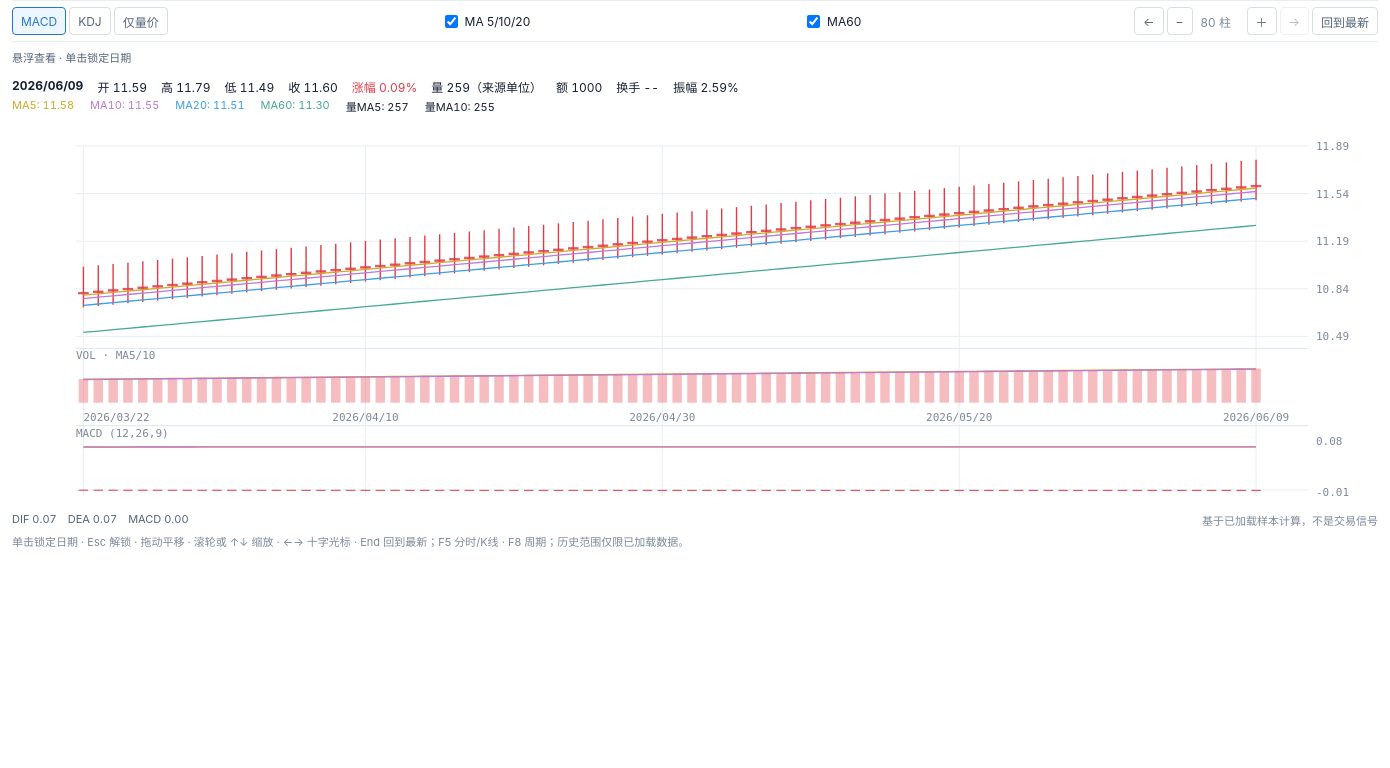
Scenario: professional chart navigation › links keyboard inspection to all panes and switches indicators
This screenshot has width=1390, height=768.
Press ArrowLeft in the element that starts with "MACD"
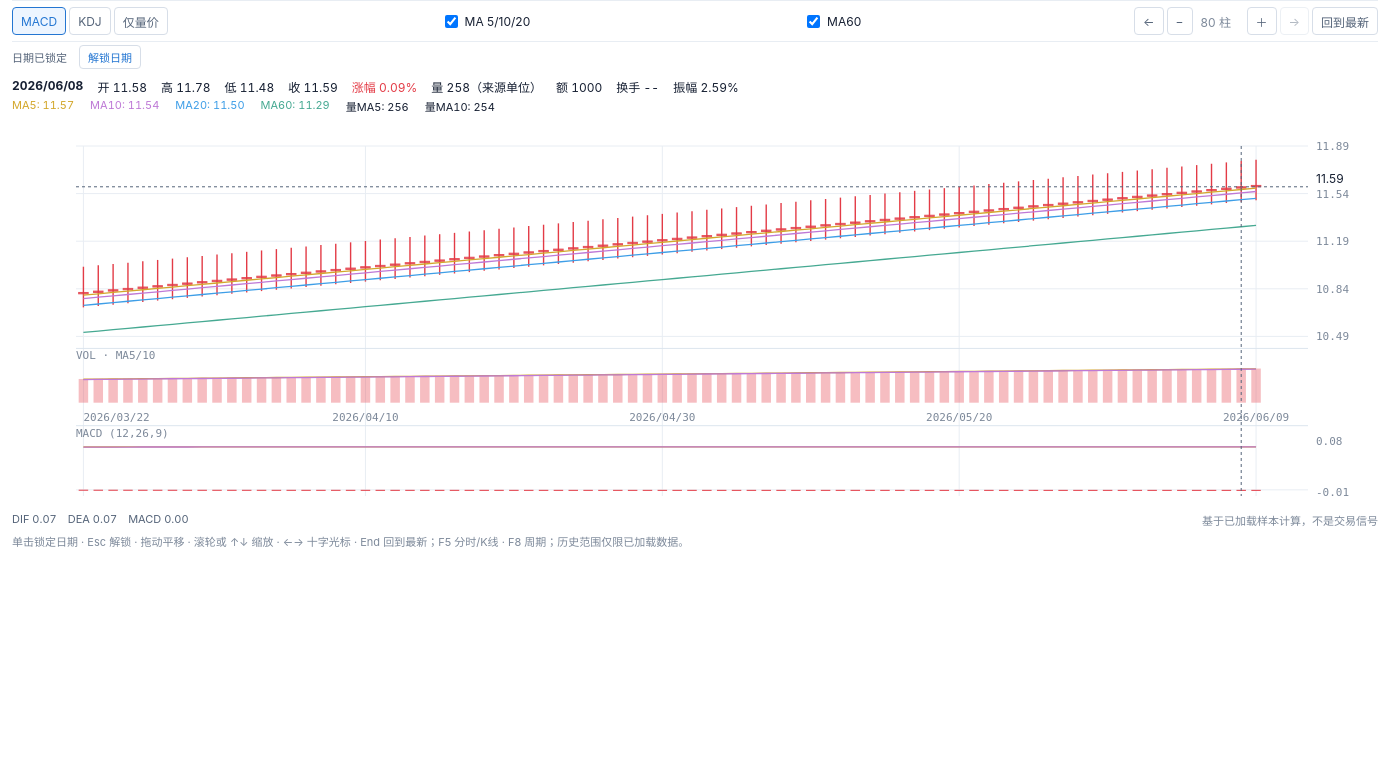
Press ArrowLeft in the element that starts with "MACD"
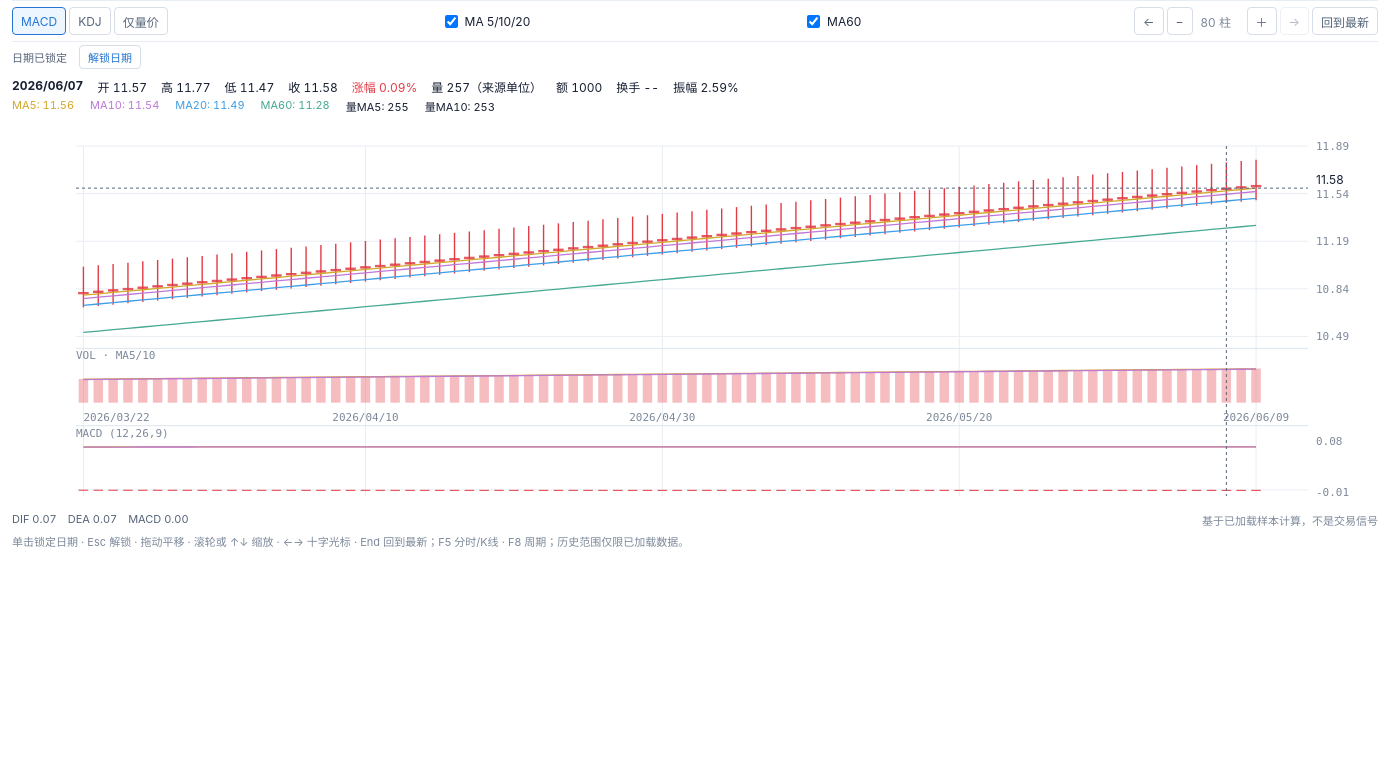
Press Escape in the element that starts with "MACD"
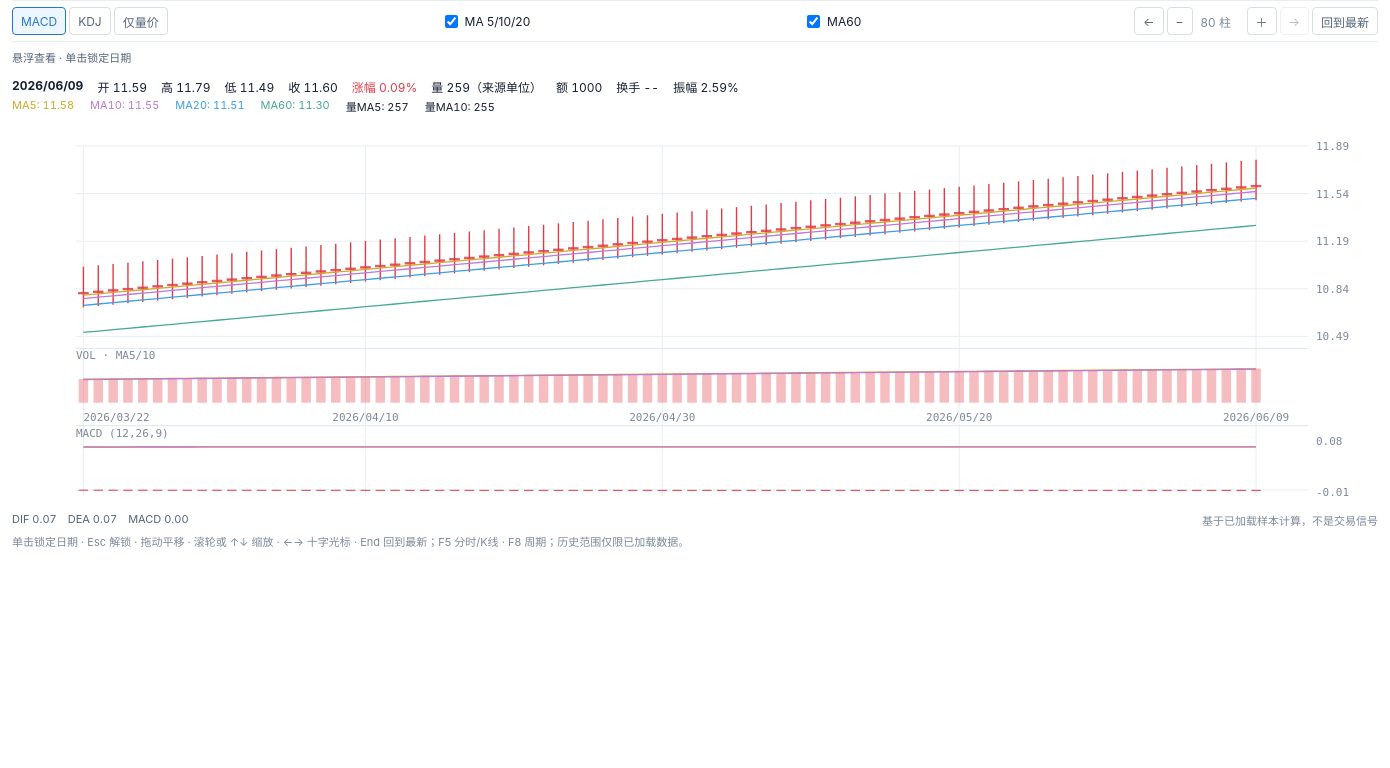
Click the button "KDJ" at (90, 21), box [69, 7, 111, 35]
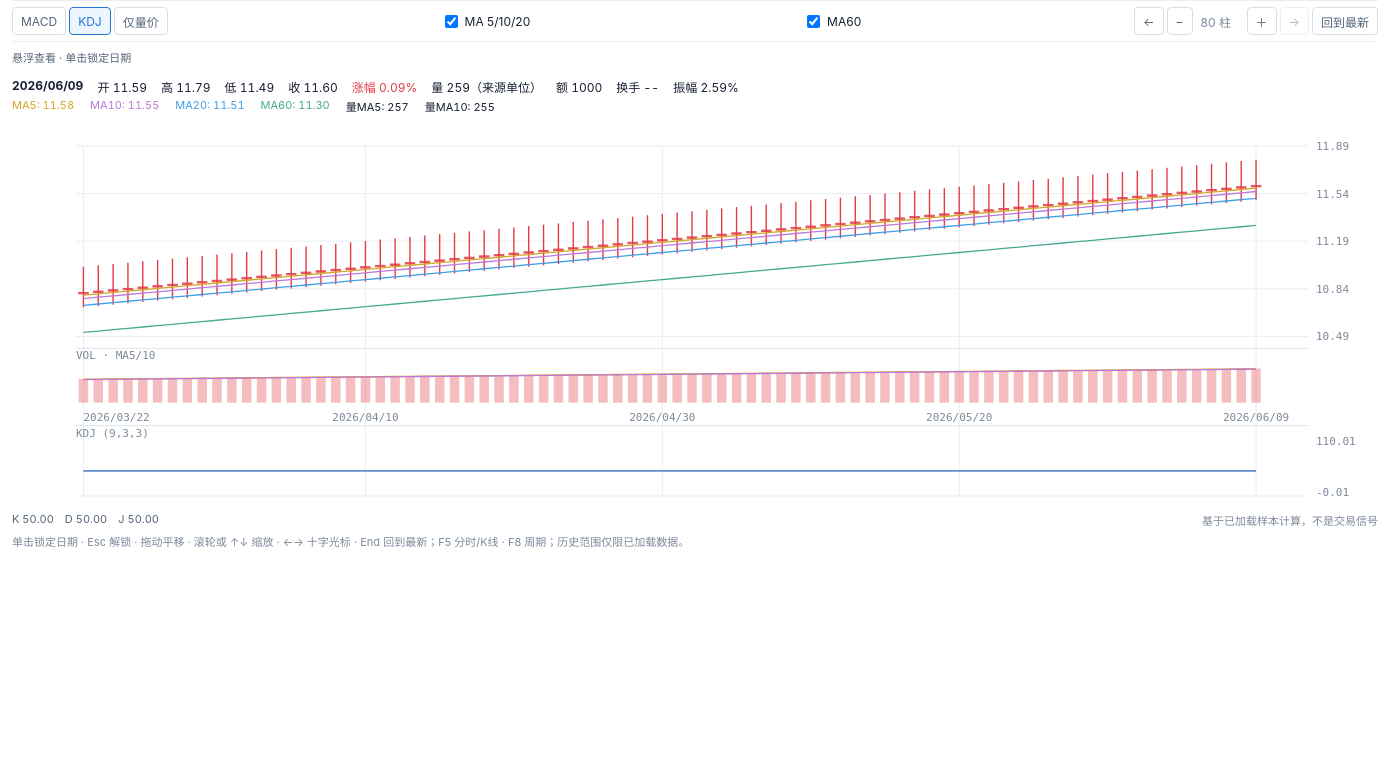
Expected: the text "KDJ (9,3,3)" is shown, [76, 427, 149, 440]
Click the button "仅量价" at (141, 21), box [114, 7, 168, 35]
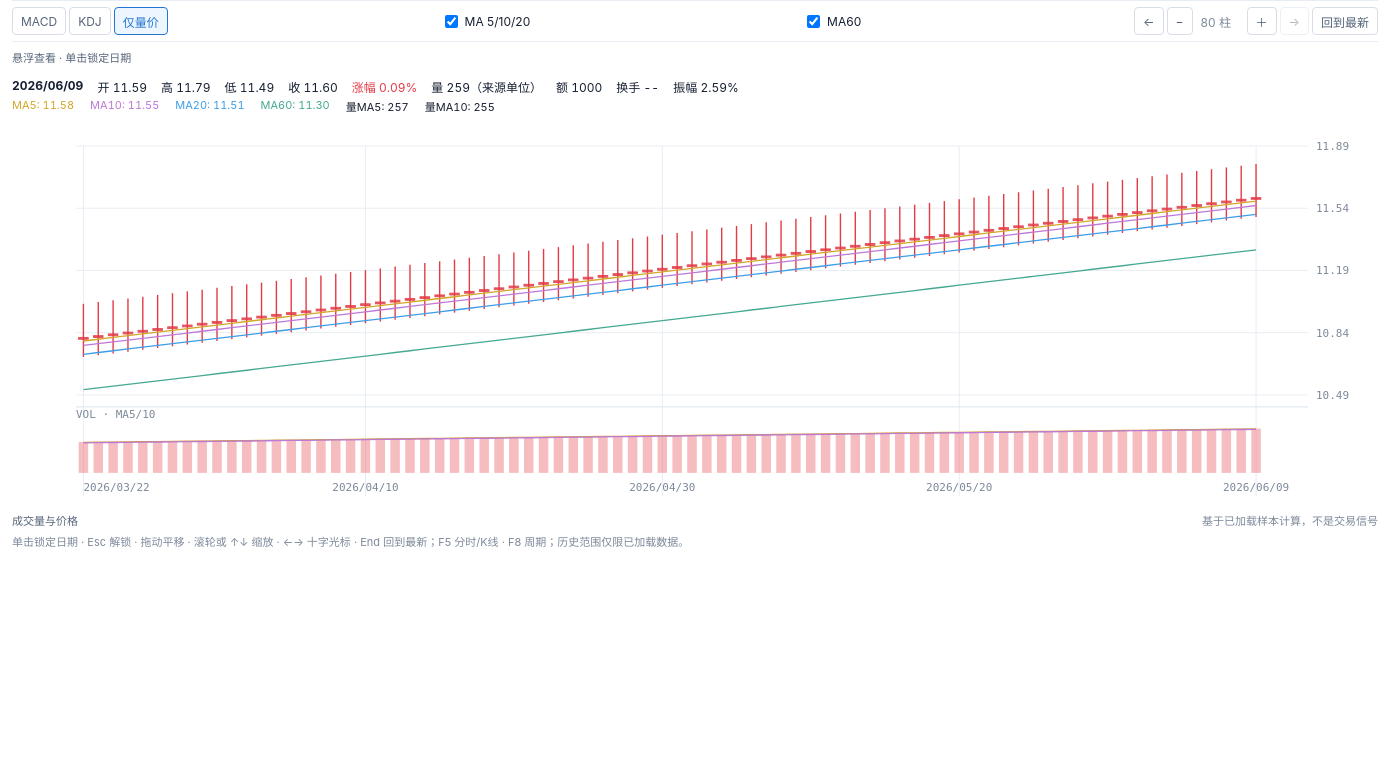
Expected: the text "KDJ (9,3,3)" is gone
